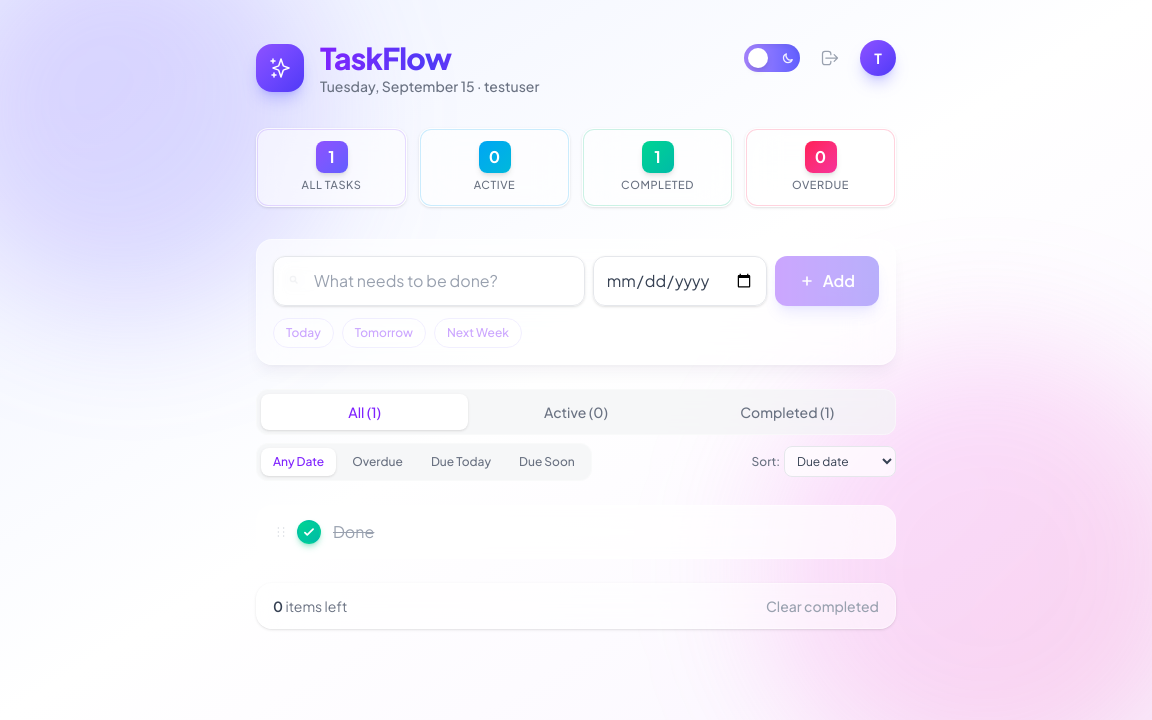
Test: TodoApp › filters › shows all caught up message when no active in active filter
expect the text "Done" is shown: met, box left=333, top=520, right=374, bottom=542
Click the button "Active (0)" at (576, 412), box left=472, top=394, right=680, bottom=430
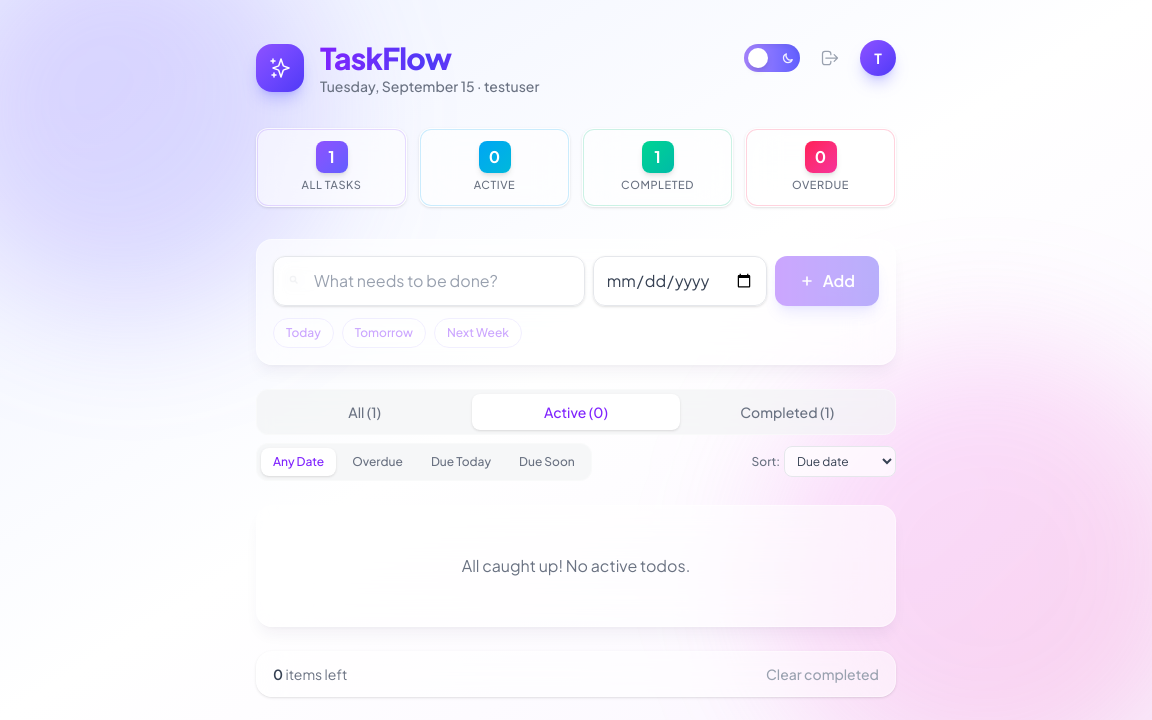
expect the text "All caught up! No active todos." is shown: met, box left=462, top=554, right=690, bottom=576
